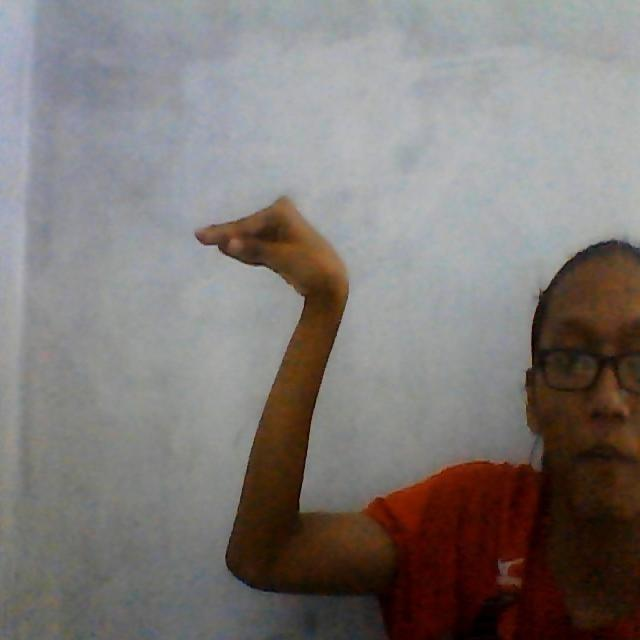Z: (164, 183, 407, 612)
